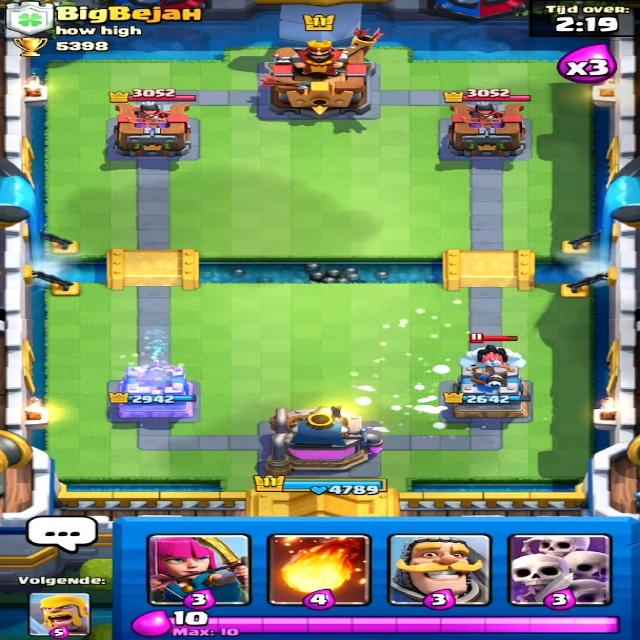Enemy_Ice_Golem_Troop: (461, 343, 524, 365)
Fireball_Card: (271, 534, 370, 607)
